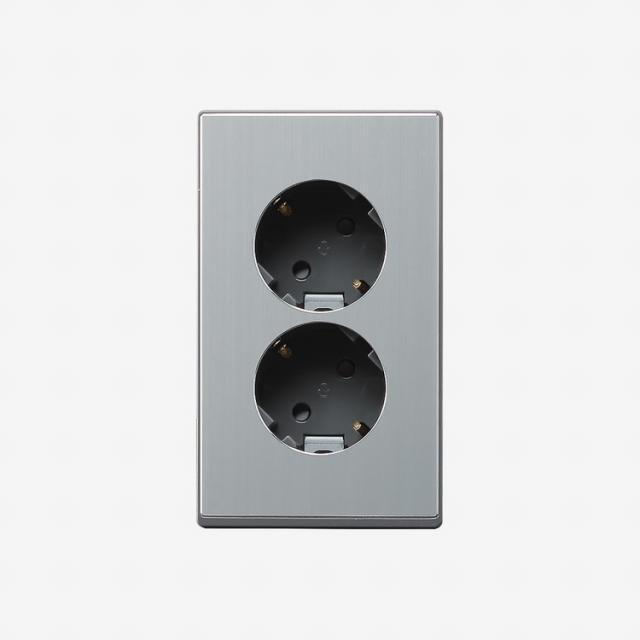typeb: (166, 90, 469, 585)
